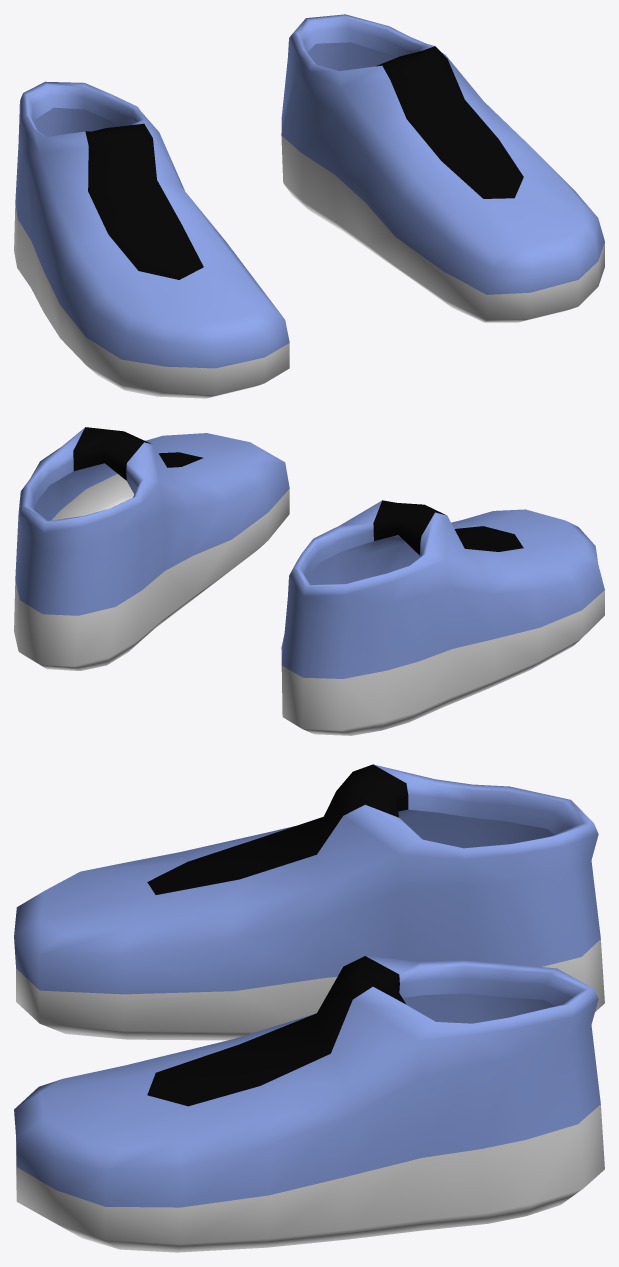
Rendered from Shoes.fbx.
3 renders of one model, top to bottom at view 1: azimuth 30°, elevation 25°; view 2: azimuth 150°, elevation 25°; view 3: azimuth 270°, elevation 25°, orthographic. The views are drawn at different scales.
Parts seen in each view (by area): view 1: LeftShoe, RightShoe; view 2: RightShoe, LeftShoe; view 3: LeftShoe, RightShoe.
Boxes of the visible parts, x1,y1,x2,y2 form: LeftShoe: (281,14,604,322); RightShoe: (14,81,289,398); RightShoe: (281,500,604,735); LeftShoe: (14,427,289,670); LeftShoe: (14,956,604,1252); RightShoe: (14,764,604,1040).
Bounding box in the file's own units: 35.97 × 12.03 × 28.51.
